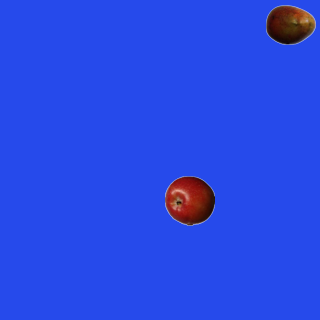Apple Braeburn: (164, 175, 214, 225)
Mango Red: (265, 0, 315, 49)
